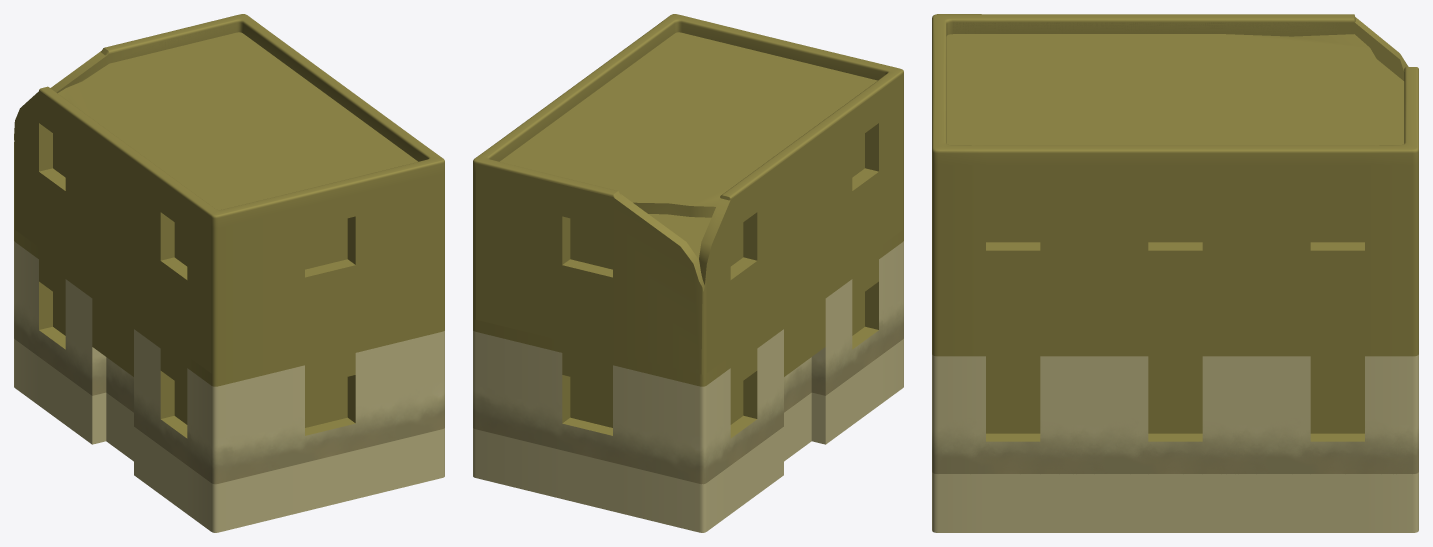
Rendered from Casa_Alta_Rota (4).FBX.
The picture shows the model from 3 angles, left to right: view 1: azimuth 30°, elevation 25°; view 2: azimuth 150°, elevation 25°; view 3: azimuth 270°, elevation 25°; orthographic projection. The views are drawn at different scales.
Visible parts, largest first — view 1: Box005, Box004; view 2: Box005, Box004; view 3: Box005, Box004.
Part boxes in pixels (x1,y1,x2,y2): Box005: [14, 14, 444, 374]; Box004: [14, 229, 444, 532]; Box005: [473, 14, 903, 374]; Box004: [473, 214, 903, 532]; Box005: [932, 14, 1418, 341]; Box004: [932, 339, 1418, 532].
Size of the model in its own units: 10 by 13 by 15.
2 materials, 1 textured.
